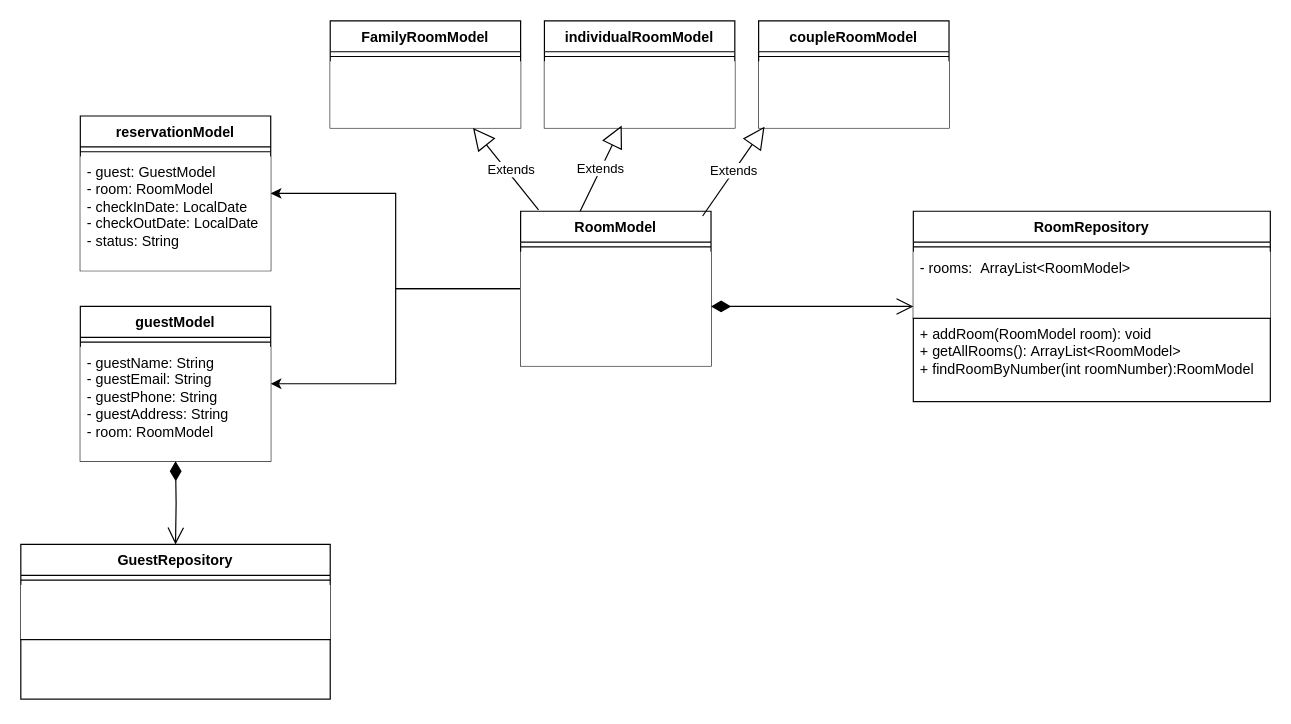
Some shapes in this 1291 by 724 pixel diagram are drawn without their labels. Here are the shapes that lost their labels. From the top down, the centre of each, then its label:
pixel 425 94: - bedType: String - maxOccupancy: int = 4
pixel 639 94: - bedType: String - maxOccupancy: int = 1
pixel 853 94: - bedType: String - maxOccupancy: int = 2
pixel 615 308: - roomNumber: int - roomType: String - price: double - status: String
pixel 175 611: - guests: ArrayList<GuestModel>
pixel 175 668: + addGuest(GuestModel guest): void + findGuestByEmail(String email): GuestModel
